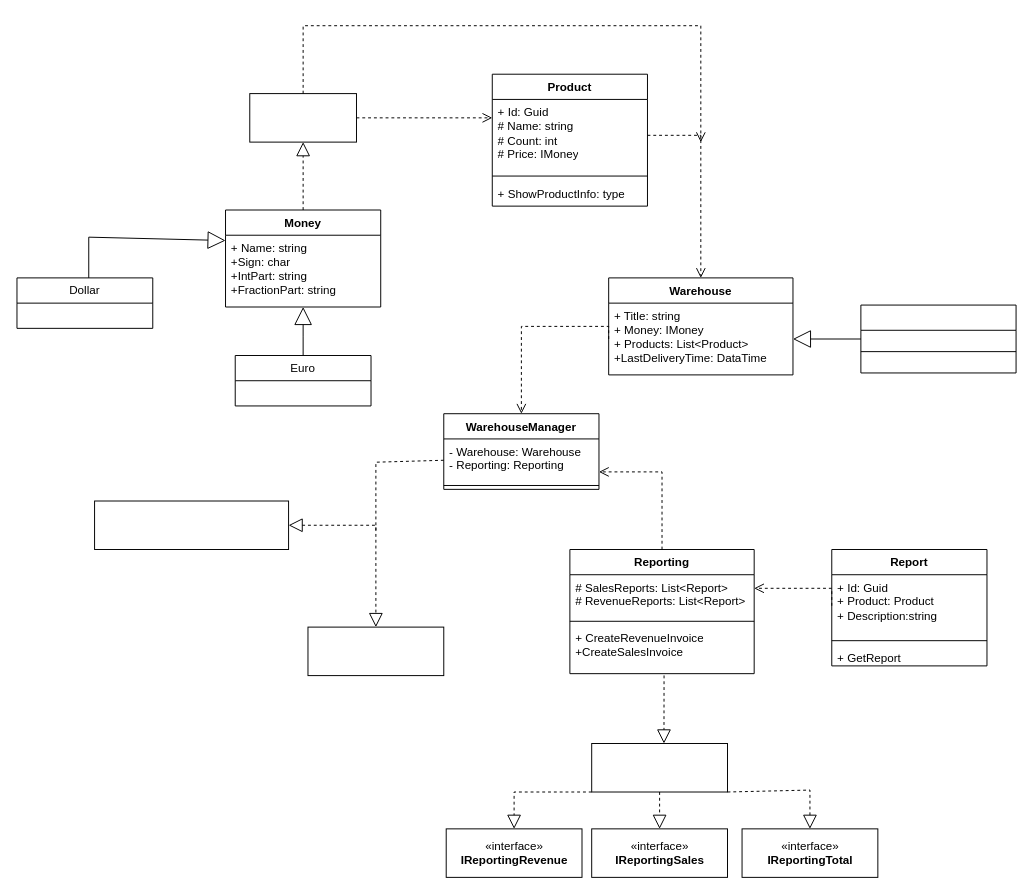
This 1033x894 diagram has some shape labels left out. Each missing label, with the centre of its shape:
ElectronicsWareHouse: (938,338)
«interface» IMoney: (302,117)
«interface» IReporting: (659,767)
«interface» IWarehouseManager: (375,651)
«interface» IWarehouseManagerReport: (191,525)
